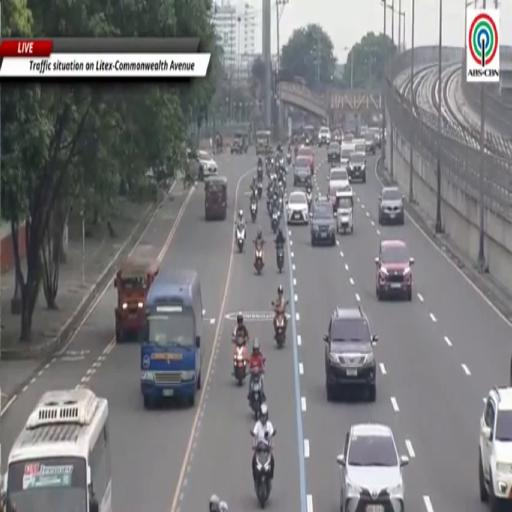bus: (5, 389, 112, 511), (141, 269, 202, 408)
car: (337, 423, 409, 511), (324, 306, 378, 402), (479, 387, 511, 511), (375, 240, 414, 301), (310, 201, 335, 246), (378, 187, 404, 225), (328, 167, 351, 206), (191, 151, 217, 181), (286, 191, 309, 223), (348, 153, 366, 183), (294, 156, 311, 186), (328, 167, 350, 189), (298, 147, 314, 173), (327, 141, 341, 163), (369, 127, 381, 148), (318, 127, 330, 147), (341, 141, 355, 158), (366, 132, 375, 154), (353, 138, 365, 153), (337, 158, 348, 169)
jeepney: (114, 256, 158, 343), (205, 176, 227, 220), (334, 189, 353, 233), (230, 132, 248, 155), (256, 131, 270, 155)
motorcycle: (249, 368, 264, 420), (273, 301, 288, 347), (234, 336, 247, 386), (254, 244, 264, 275), (236, 226, 245, 252), (276, 245, 284, 273), (271, 212, 279, 233), (306, 190, 312, 213), (251, 201, 257, 222), (257, 166, 263, 182), (267, 196, 272, 215), (257, 182, 262, 199), (287, 152, 291, 164), (273, 429, 276, 437)
